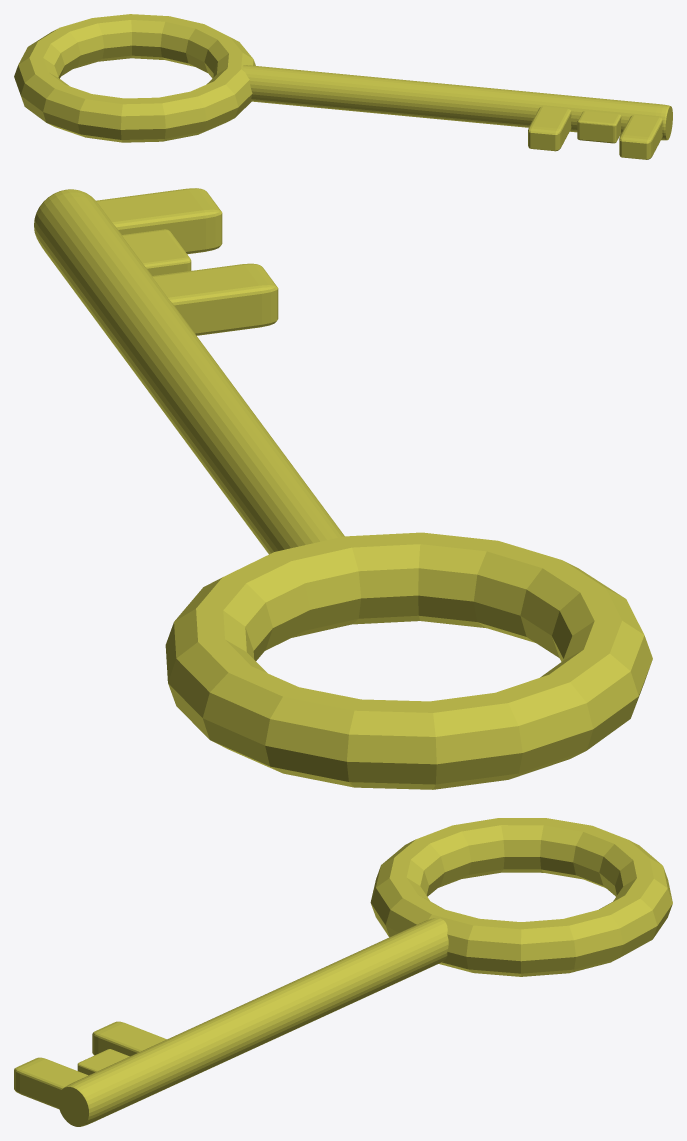
File: Key.fbx
The picture shows the model from 3 angles, top to bottom: view 1: azimuth 30°, elevation 25°; view 2: azimuth 150°, elevation 25°; view 3: azimuth 270°, elevation 25°; orthographic projection. The views are drawn at different scales.
Parts seen in each view (by area): view 1: Cube.044; view 2: Cube.044; view 3: Cube.044.
Boxes of the visible parts, bbox=[...] form: Cube.044: bbox=[14, 14, 672, 159]; Cube.044: bbox=[34, 188, 652, 789]; Cube.044: bbox=[14, 818, 672, 1126].
Bounding box in the file's own units: 27.03 × 2.13 × 26.72.
